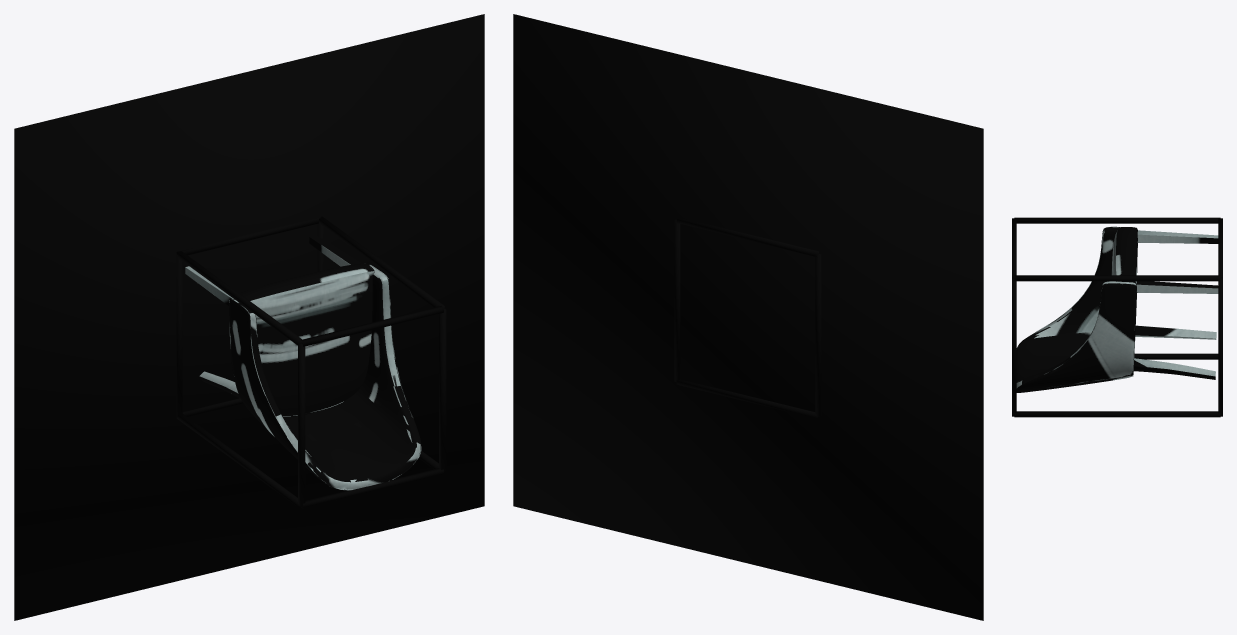
3 views of the same model, side by side, from view 1: azimuth 30°, elevation 25°; view 2: azimuth 150°, elevation 25°; view 3: azimuth 270°, elevation 25° (orthographic). The views are drawn at different scales.
Bounding box in the file's own units: 2 × 2 × 0.9233.
